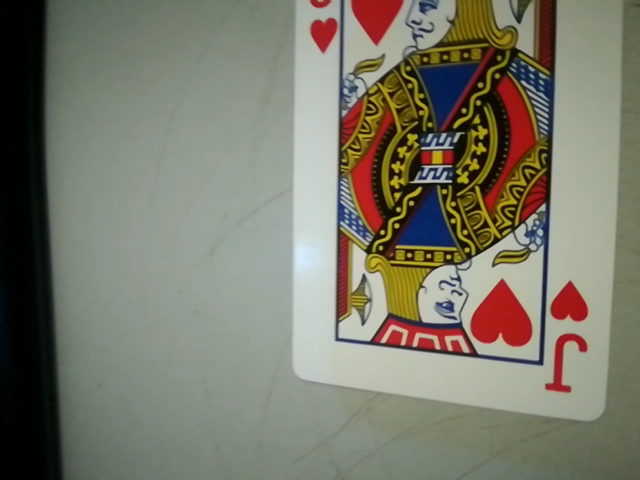hx j: (538, 273, 602, 401)
